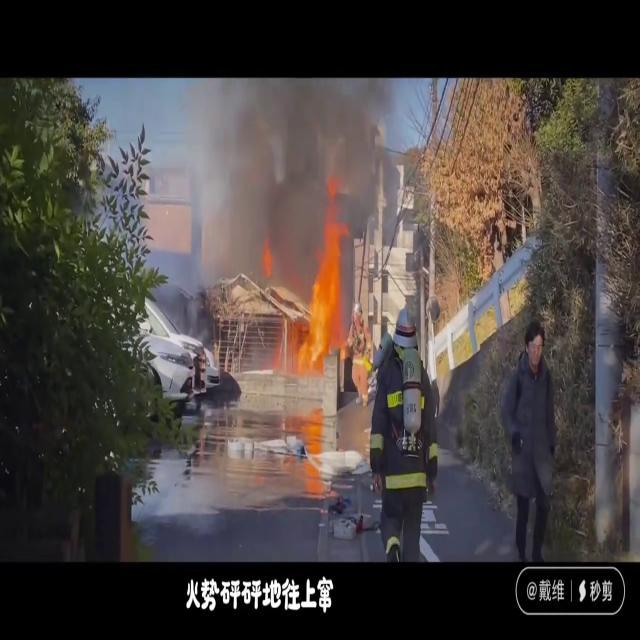Fire: (272, 206, 358, 371)
Smoke: (174, 78, 397, 280)
